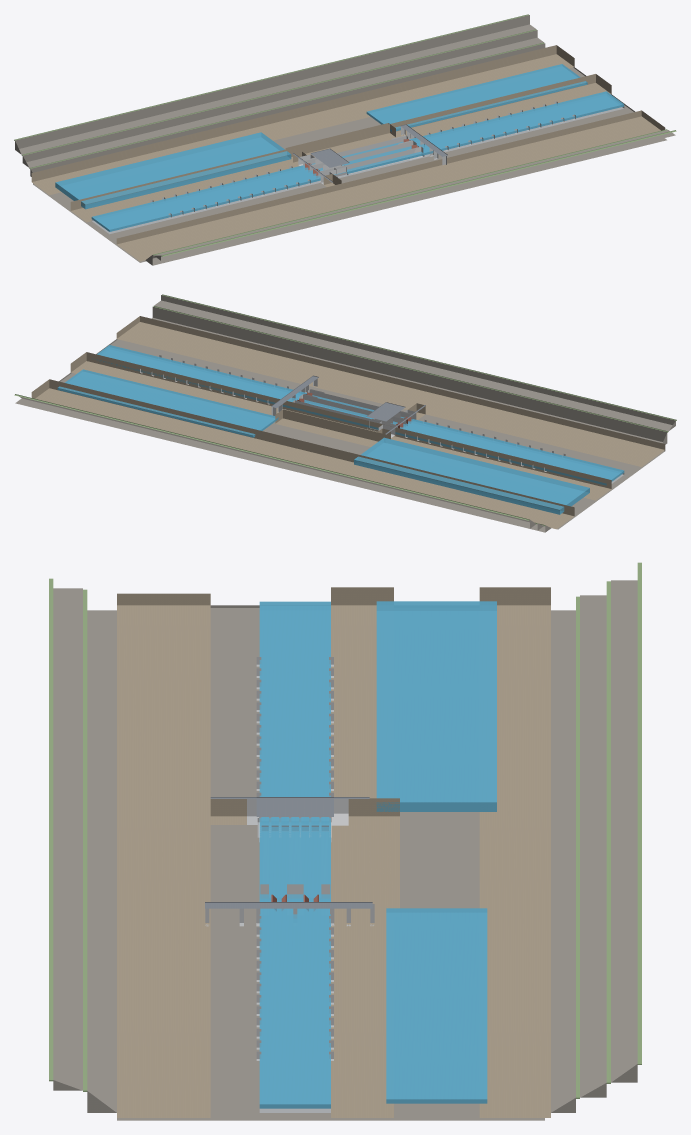
Rendered from qingnian-low.glb.
3 renders of one model, top to bottom at view 1: azimuth 30°, elevation 25°; view 2: azimuth 150°, elevation 25°; view 3: azimuth 270°, elevation 25°, orthographic. The views are drawn at different scales.
Parts seen in each view (by area): view 1: earth_terrain, rock_terrain, water_water, grass_terrain, concrete_structure, concreteDark_terrain, earth_structure, road_aux, concreteLight_structure; view 2: earth_terrain, rock_terrain, water_water, grass_terrain, earth_structure, concrete_structure, road_aux, concreteLight_structure; view 3: earth_terrain, rock_terrain, water_water, grass_terrain, earth_structure, road_aux, concrete_structure, concreteLight_structure.
Boxes of the visible parts, left/top/right/bottom form: earth_terrain: left=31, top=45, right=665, bottom=261; rock_terrain: left=15, top=15, right=675, bottom=265; water_water: left=55, top=64, right=624, bottom=231; grass_terrain: left=14, top=14, right=676, bottom=256; concrete_structure: left=150, top=101, right=575, bottom=218; concreteDark_terrain: left=91, top=106, right=624, bottom=234; earth_structure: left=285, top=123, right=395, bottom=186; road_aux: left=292, top=124, right=447, bottom=182; concreteLight_structure: left=298, top=135, right=423, bottom=181; earth_terrain: left=31, top=316, right=665, bottom=529; rock_terrain: left=15, top=295, right=675, bottom=532; water_water: left=57, top=345, right=624, bottom=514; grass_terrain: left=14, top=294, right=676, bottom=526; earth_structure: left=275, top=403, right=425, bottom=446; concrete_structure: left=140, top=355, right=565, bottom=471; road_aux: left=271, top=375, right=425, bottom=434; concreteLight_structure: left=293, top=389, right=412, bottom=437; earth_terrain: left=117, top=587, right=550, bottom=1117; rock_terrain: left=53, top=580, right=637, bottom=1120; water_water: left=259, top=601, right=496, bottom=1108; grass_terrain: left=49, top=562, right=641, bottom=1098; earth_structure: left=210, top=798, right=399, bottom=916; road_aux: left=205, top=797, right=372, bottom=908; concrete_structure: left=247, top=657, right=333, bottom=1060; concreteLight_structure: left=259, top=799, right=348, bottom=898.
Bounding box in the file's own units: 2040 × 96 × 997.
Materials: 10 (10 with a texture image).
